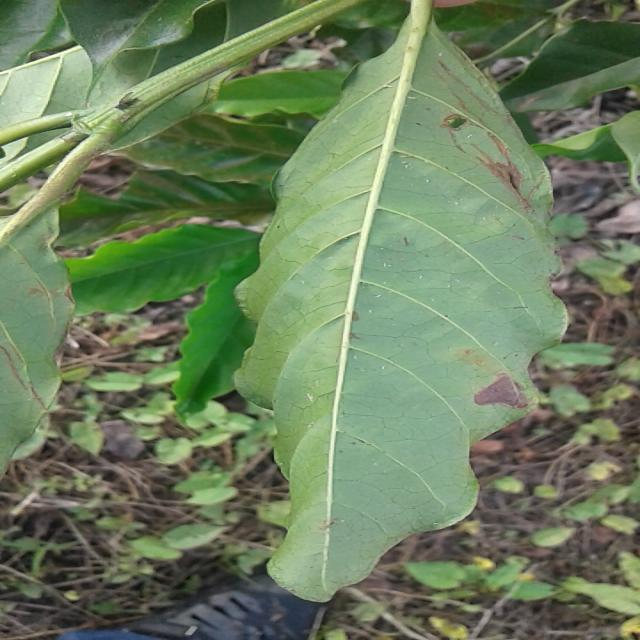Plaga-AranaRoja: (224, 0, 568, 606)
